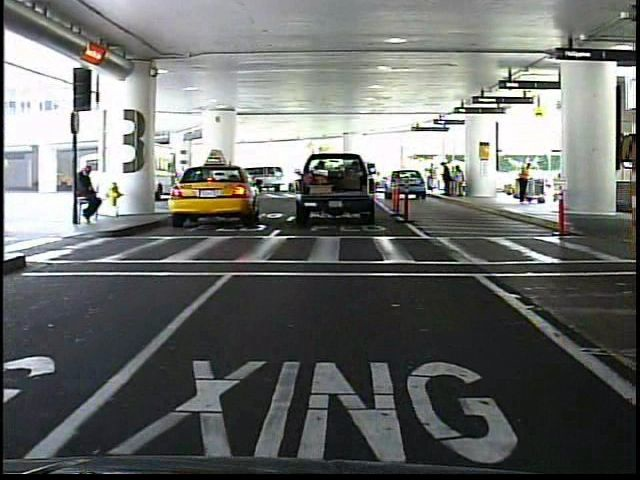person: (77, 160, 105, 230), (512, 158, 534, 209), (426, 162, 438, 196)
